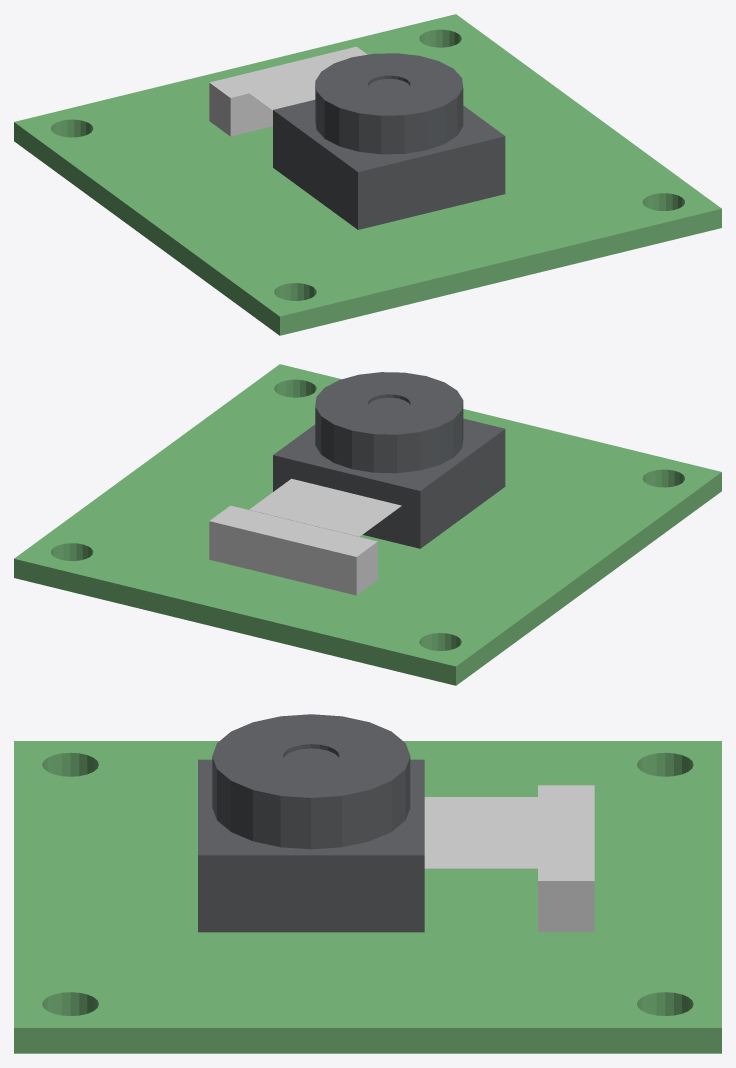
Rendered from pi_camera.glb.
3 renders of one model, top to bottom at view 1: azimuth 30°, elevation 25°; view 2: azimuth 150°, elevation 25°; view 3: azimuth 270°, elevation 25°, orthographic. The views are drawn at different scales.
Visible parts, largest first — view 1: Mesh_Mesh_head_geo.001_lambert2SG.001; view 2: Mesh_Mesh_head_geo.001_lambert2SG.001; view 3: Mesh_Mesh_head_geo.001_lambert2SG.001.
Boxes of the visible parts, x1,y1,x2,y2 form: Mesh_Mesh_head_geo.001_lambert2SG.001: (14, 14, 721, 335); Mesh_Mesh_head_geo.001_lambert2SG.001: (14, 364, 721, 685); Mesh_Mesh_head_geo.001_lambert2SG.001: (14, 714, 721, 1053).
Bounding box in the file's own units: 24 × 8 × 25.
